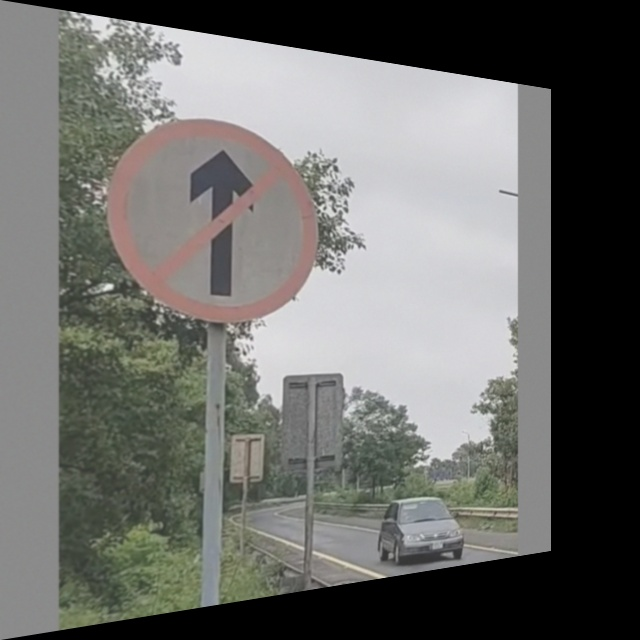No_Entry: (112, 110, 319, 323)
